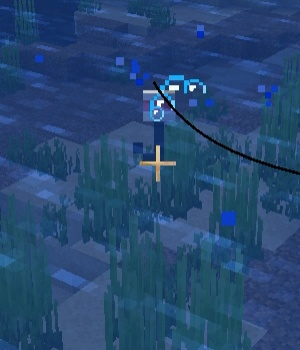down: (130, 84, 180, 159)
